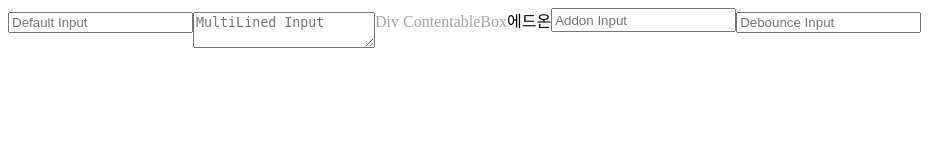
Test case: Component:Input › DIVContentableBox의 내부Text를 편집할 수 있으며 div태그여야한다.
Click the text box with placeholder "Div ContentableBox" at (441, 22), box [375,13,507,31]
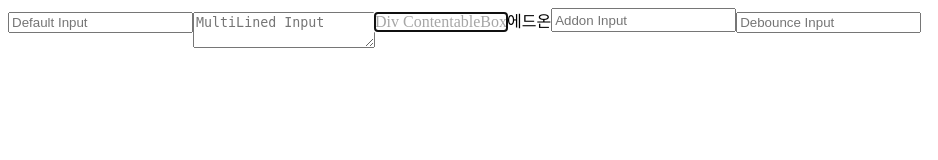
Type keys "test"
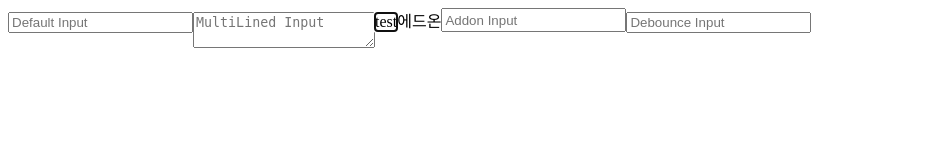
Expected: the text box with placeholder "Div ContentableBox" reads "test", [375,13,397,31]
